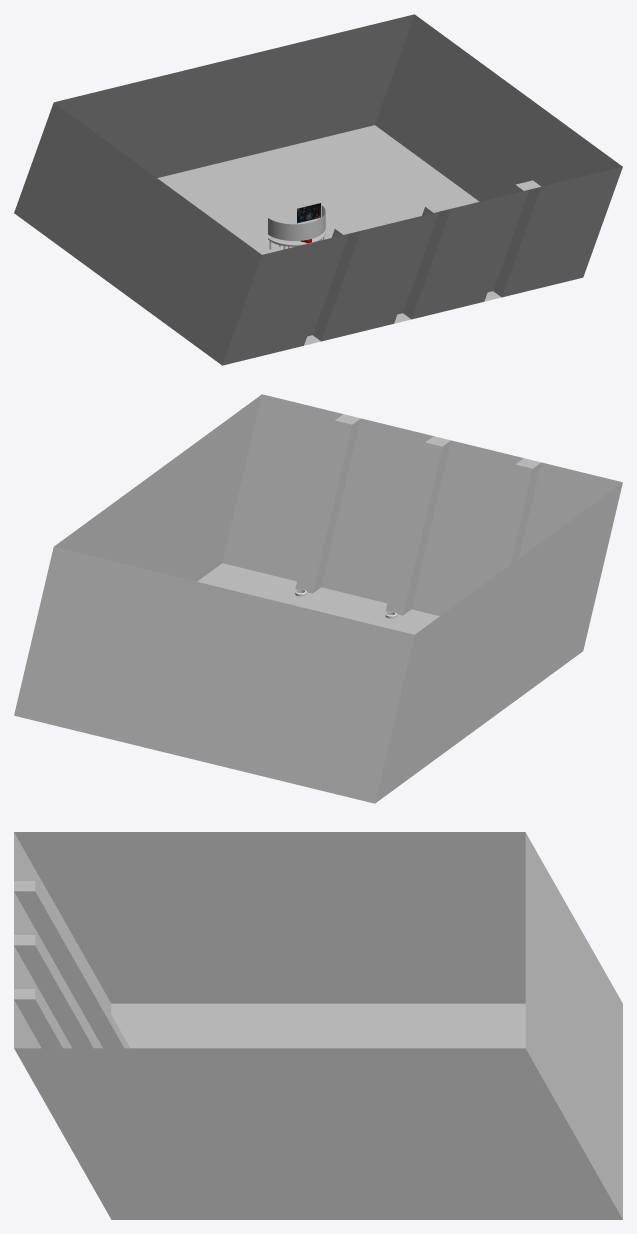
The model's file is iron man_scene.fbx.
The picture shows the model from 3 angles, top to bottom: view 1: azimuth 30°, elevation 25°; view 2: azimuth 150°, elevation 25°; view 3: azimuth 270°, elevation 25°; orthographic projection. The views are drawn at different scales.
Parts seen in each view (by area): view 1: Plane, Circle.001; view 2: Plane; view 3: Plane.
Part boxes in pixels (left/top/right/bottom): Plane: left=14, top=14, right=622, bottom=365; Circle.001: left=268, top=205, right=325, bottom=240; Plane: left=14, top=394, right=622, bottom=803; Plane: left=14, top=832, right=622, bottom=1219.
Size of the model in its own units: 3000 by 1114 by 3572.
